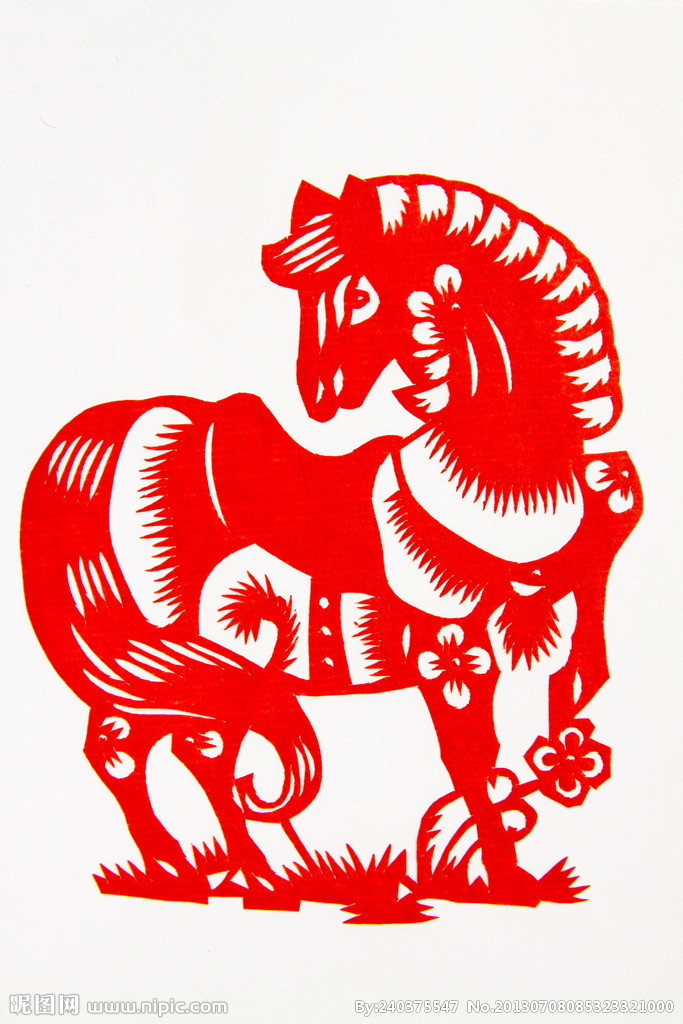background: (13, 150, 647, 931)
